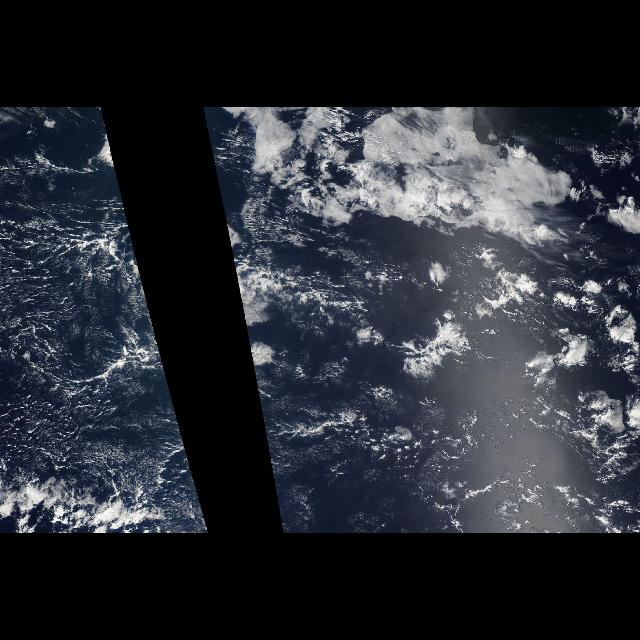Flower: (478, 257, 638, 487)
Gravel: (12, 294, 138, 436)
